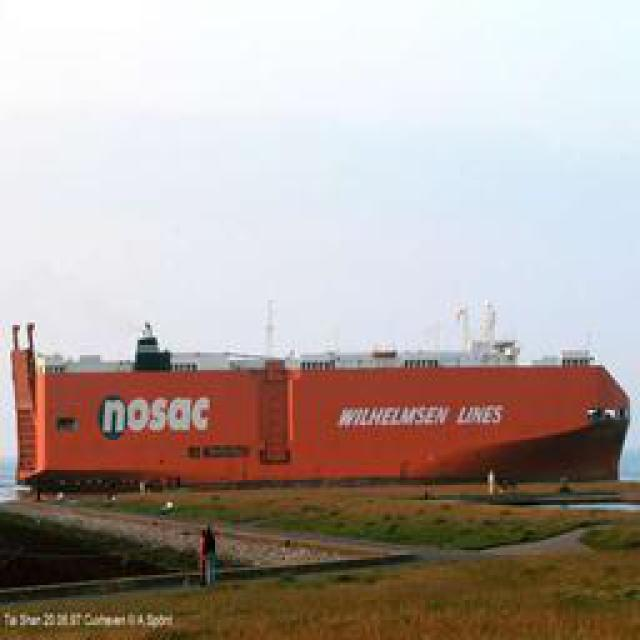Ship: (1, 269, 640, 492)
